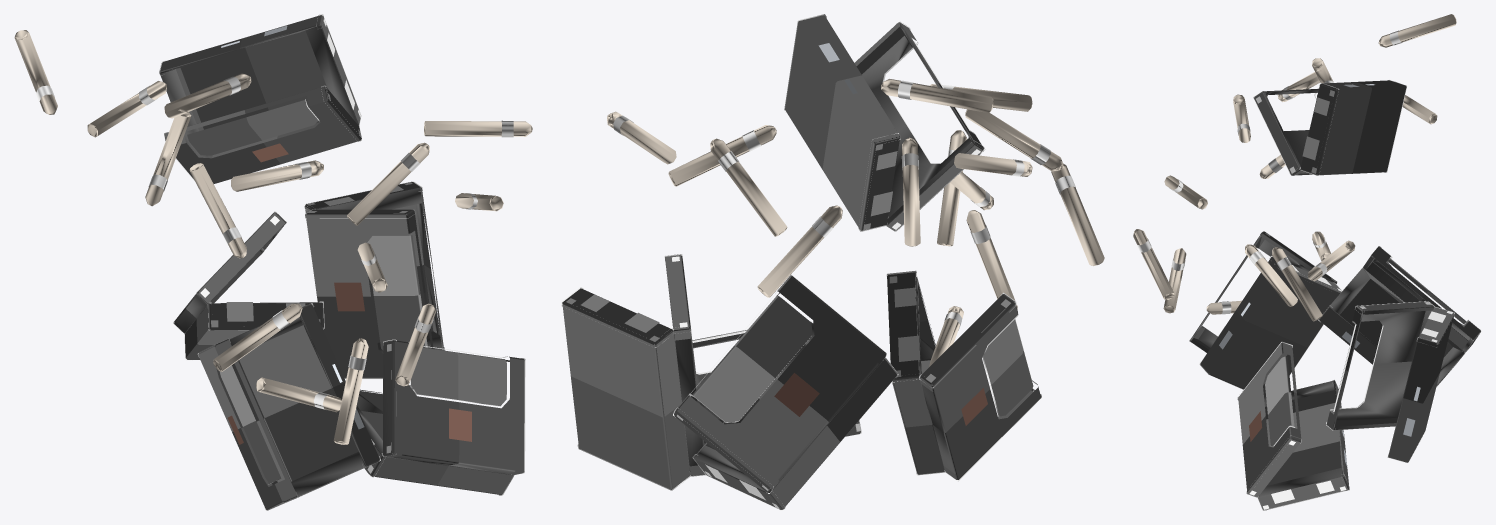
Rendered from bar_mmhc_cigar_1_stack_b.glb.
The picture shows the model from 3 angles, left to right: view 1: azimuth 30°, elevation 25°; view 2: azimuth 150°, elevation 25°; view 3: azimuth 270°, elevation 25°; orthographic projection. The views are drawn at different scales.
Bounding box in the file's own units: 0.6238 × 0.6488 × 0.5493.
